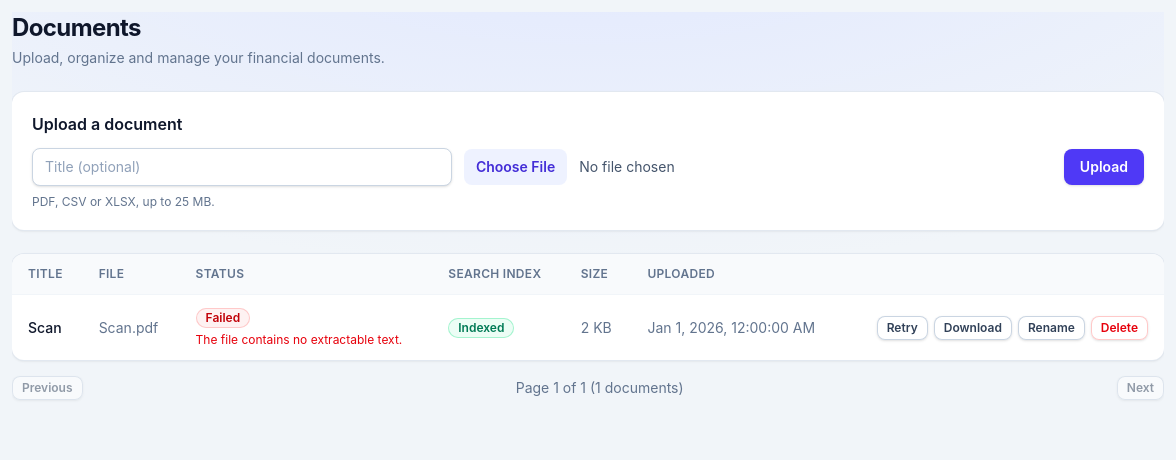
Test: DocumentsComponent › retries a failed document and reloads the list
Click the button "Retry": (902, 328) x1=877 y1=316 x2=928 y2=340
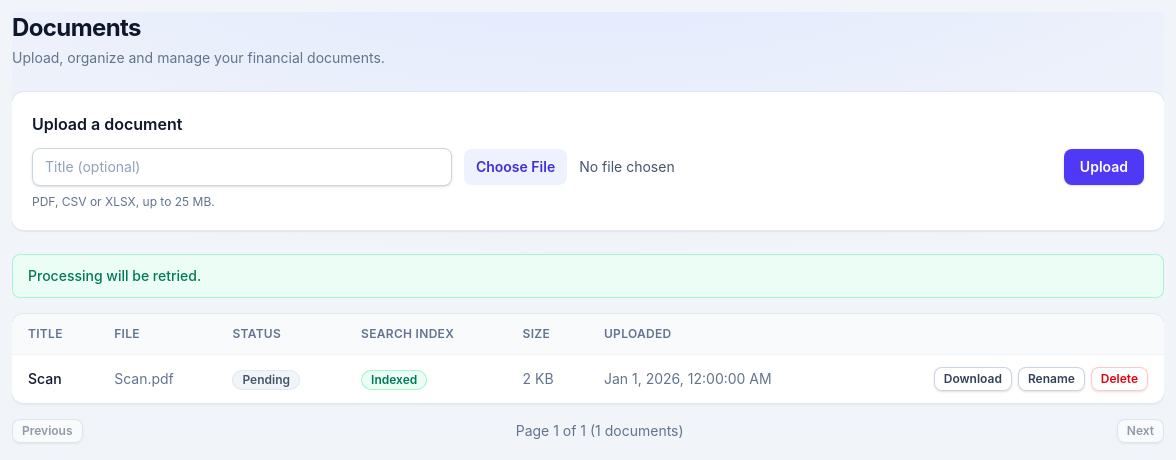
Result: the text "retried" is shown at x1=28 y1=267 x2=201 y2=284
